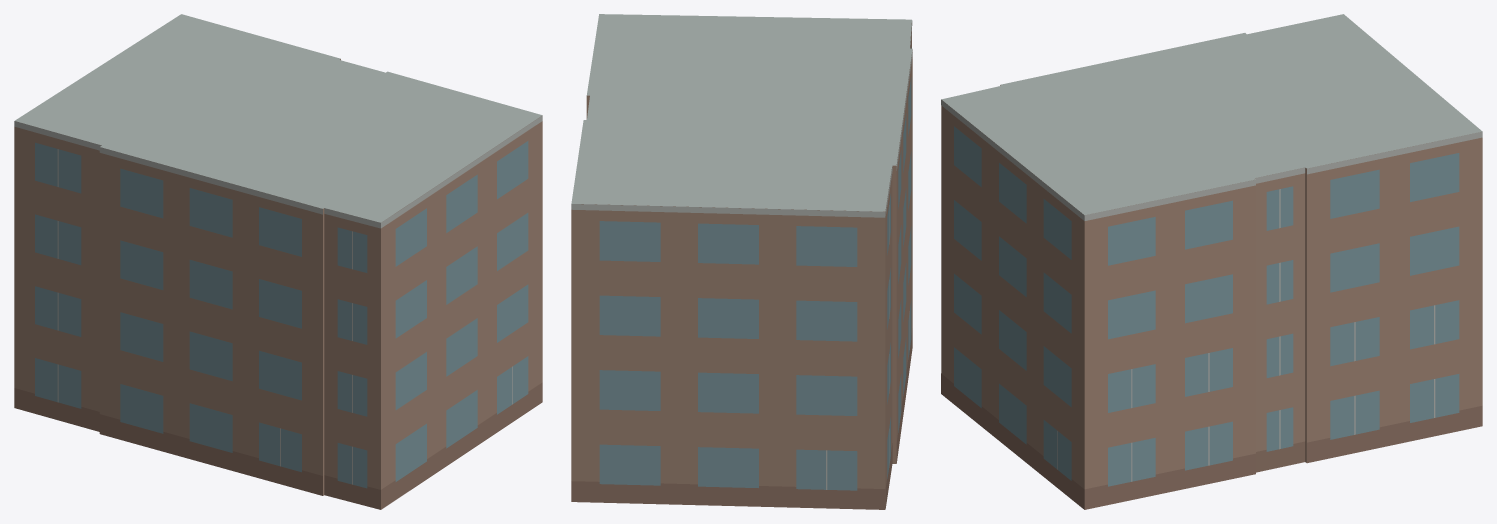
File: survey-upis-32736065.glb
3 renders of one model, left to right at view 1: azimuth 30°, elevation 25°; view 2: azimuth 150°, elevation 25°; view 3: azimuth 270°, elevation 25°, orthographic. The views are drawn at different scales.
Visible parts, largest first — view 1: survey-upis-32736065.tmp; view 2: survey-upis-32736065.tmp; view 3: survey-upis-32736065.tmp.
Boxes of the visible parts, x1=… form: survey-upis-32736065.tmp: x1=14, y1=14, x2=542, y2=509; survey-upis-32736065.tmp: x1=571, y1=14, x2=912, y2=509; survey-upis-32736065.tmp: x1=941, y1=14, x2=1482, y2=509.
Size of the model in its own units: 17.81 by 12.15 by 20.25.
